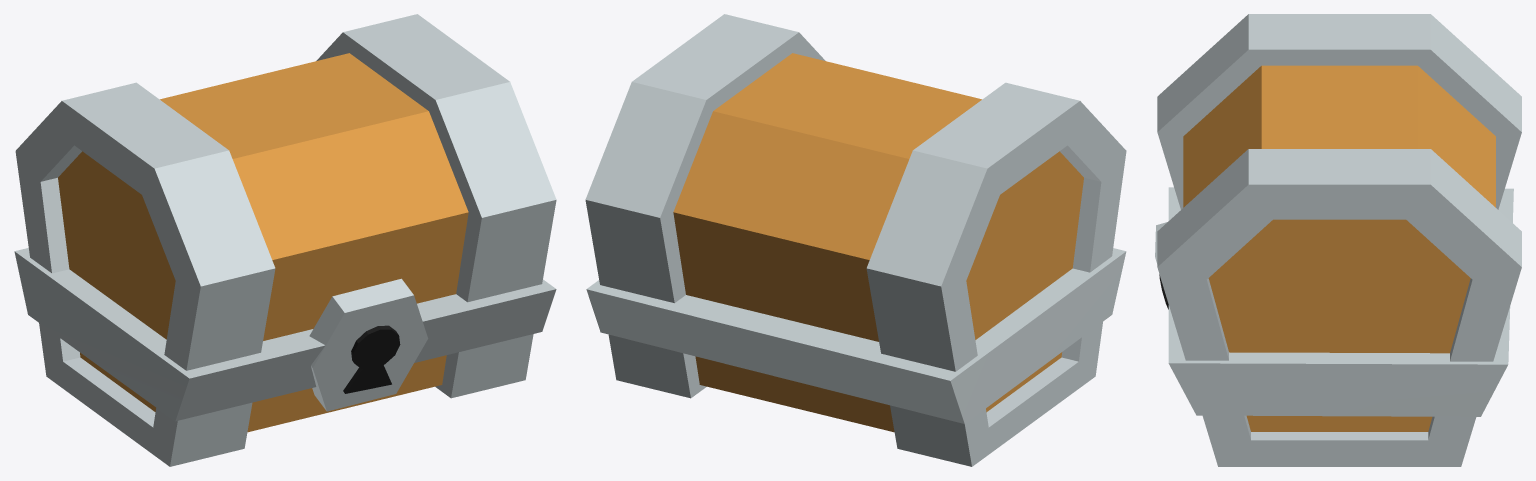
The model's file is Reward Chest.fbx.
3 renders of one model, left to right at view 1: azimuth 30°, elevation 25°; view 2: azimuth 150°, elevation 25°; view 3: azimuth 270°, elevation 25°, orthographic.
Visible parts, largest first — view 1: group35431481; view 2: group35431481; view 3: group35431481.
Part boxes in pixels (x1,y1,x2,y2): group35431481: (14, 14, 556, 466); group35431481: (585, 14, 1126, 466); group35431481: (1155, 14, 1521, 466).
Bounding box in the file's own units: 656 × 490 × 577.
